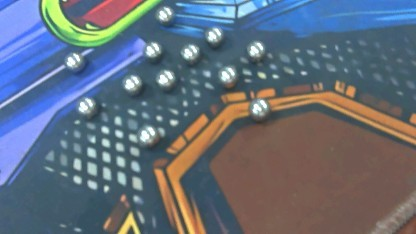ironball: (175, 38, 202, 66), (152, 66, 177, 91), (245, 97, 271, 120), (243, 38, 266, 63), (75, 95, 101, 116), (136, 123, 158, 147), (204, 25, 226, 49), (151, 5, 177, 25), (63, 49, 85, 72), (217, 64, 237, 89), (121, 74, 144, 95), (142, 41, 161, 63)
